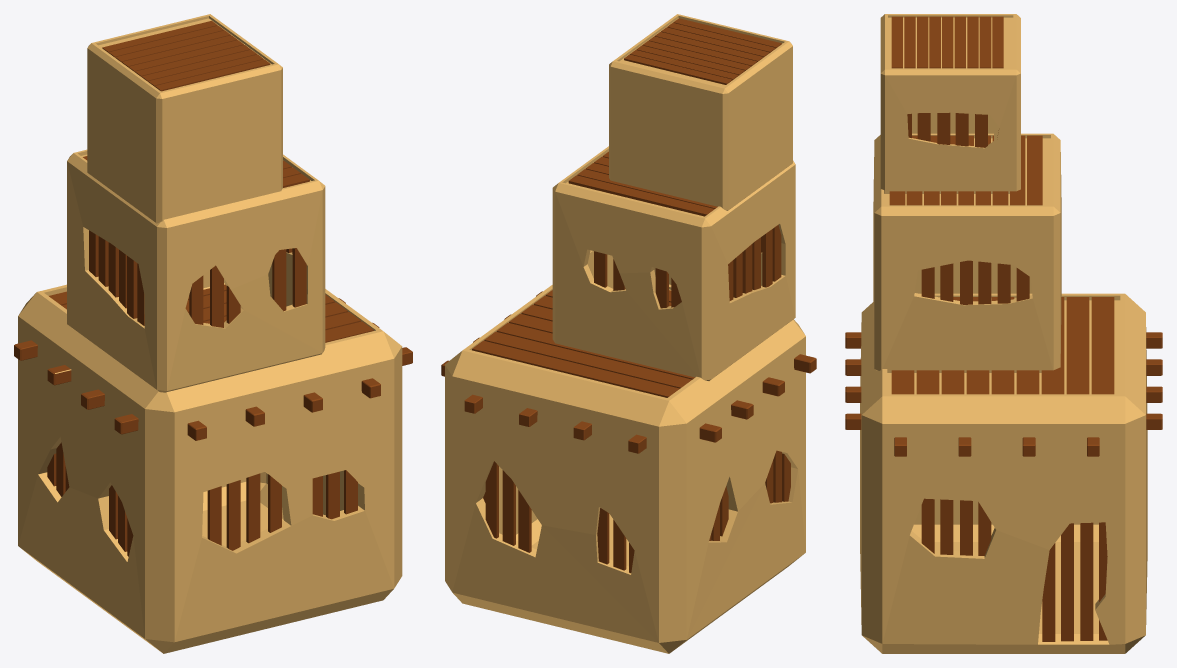
File: DesertHouse1.fbx
3 renders of one model, left to right at view 1: azimuth 30°, elevation 25°; view 2: azimuth 150°, elevation 25°; view 3: azimuth 270°, elevation 25°, orthographic. The views are drawn at different scales.
Parts seen in each view (by area): view 1: Cube; view 2: Cube; view 3: Cube.
Boxes of the visible parts, x1,y1,x2,y2 form: Cube: (14, 14, 412, 653); Cube: (441, 14, 816, 653); Cube: (845, 14, 1162, 653).
Bounding box in the file's own units: 250 × 457 × 245.
